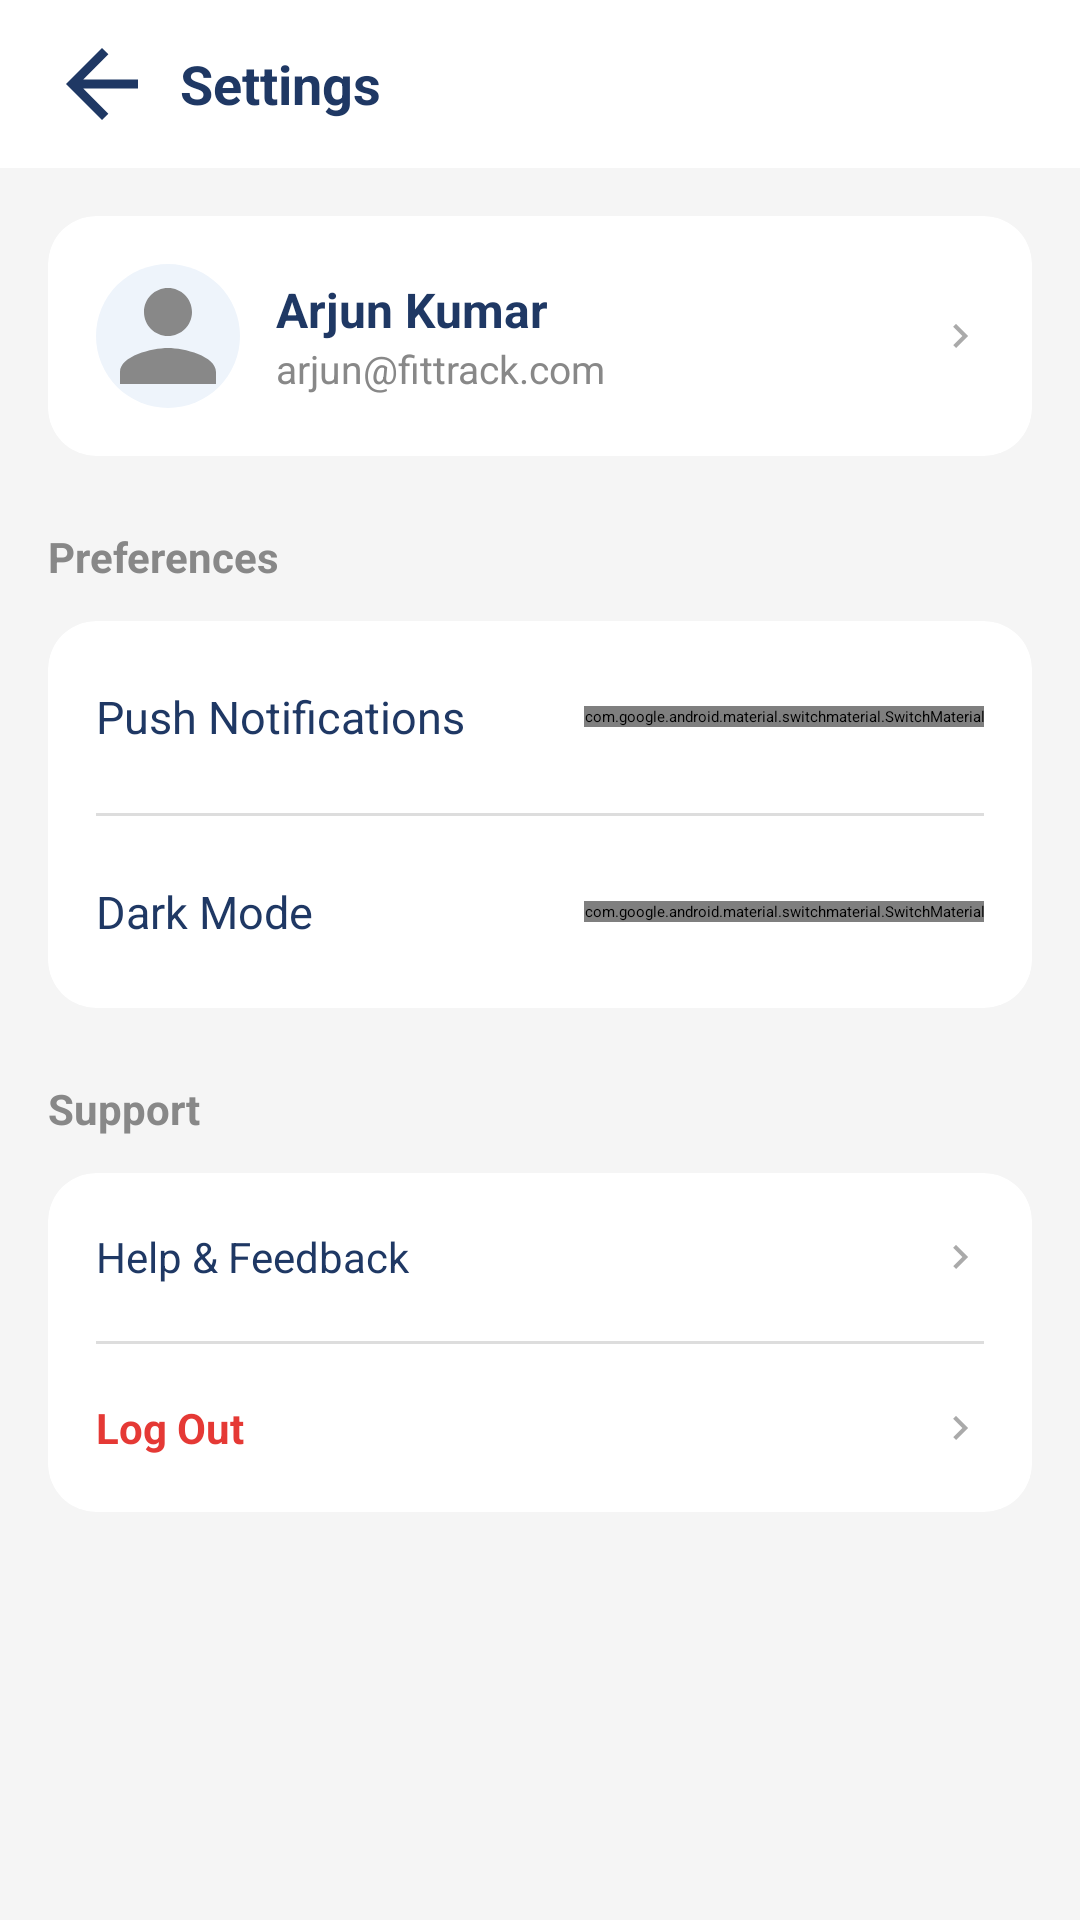

Point at icon controls on the screen. Image size 1080x1920, points as (x=x, y=y).
back arrow: (x=102, y=84)
chevron right: (x=960, y=336), (x=960, y=1257), (x=960, y=1428)
person: (x=168, y=336)
